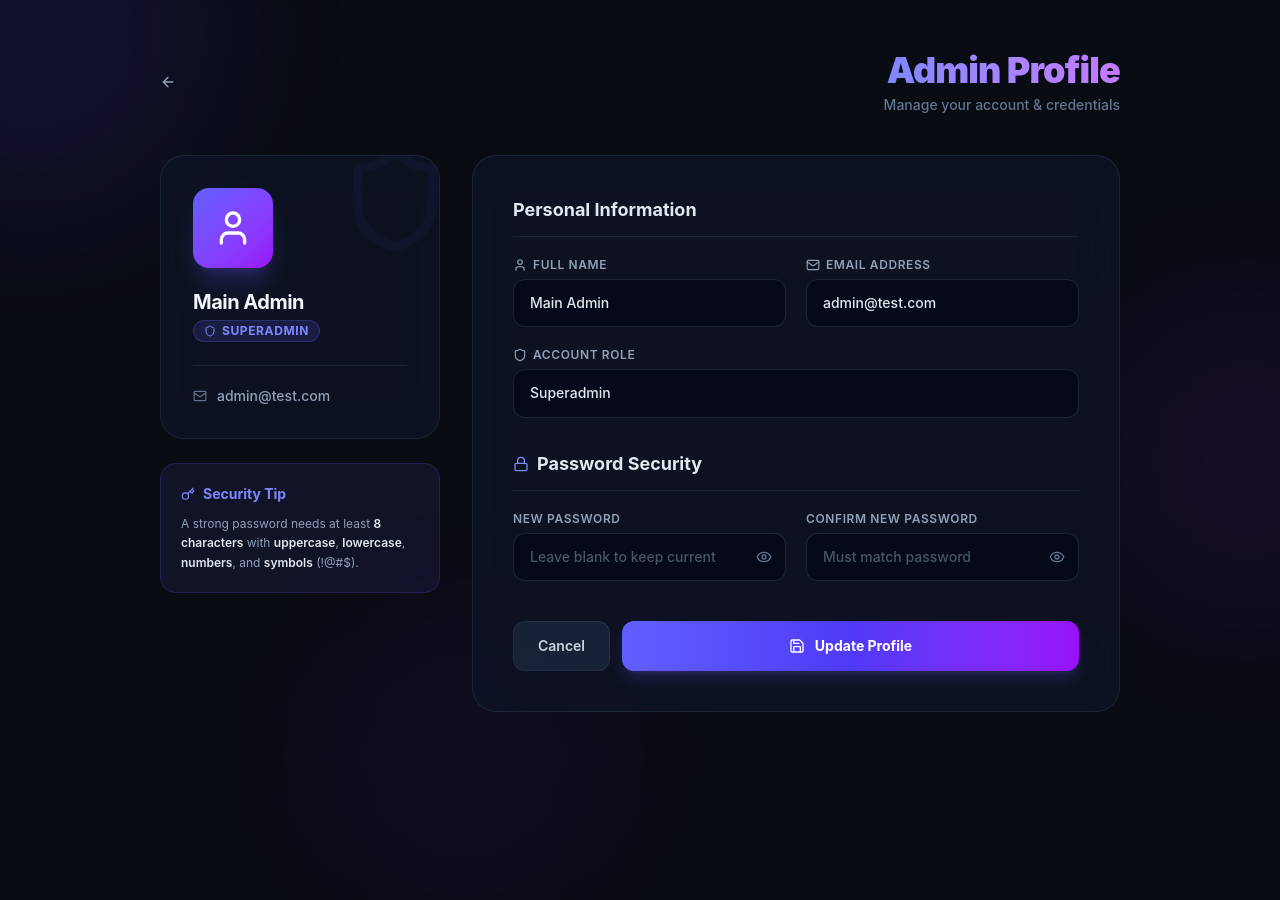
Test case: AdminProfile Page › handles profile update without password
The width and height of the screenshot is (1280, 900).
Replace the text in the field labelled "Full Name" with "Updated Admin": (650, 303) [513,279,786,327]
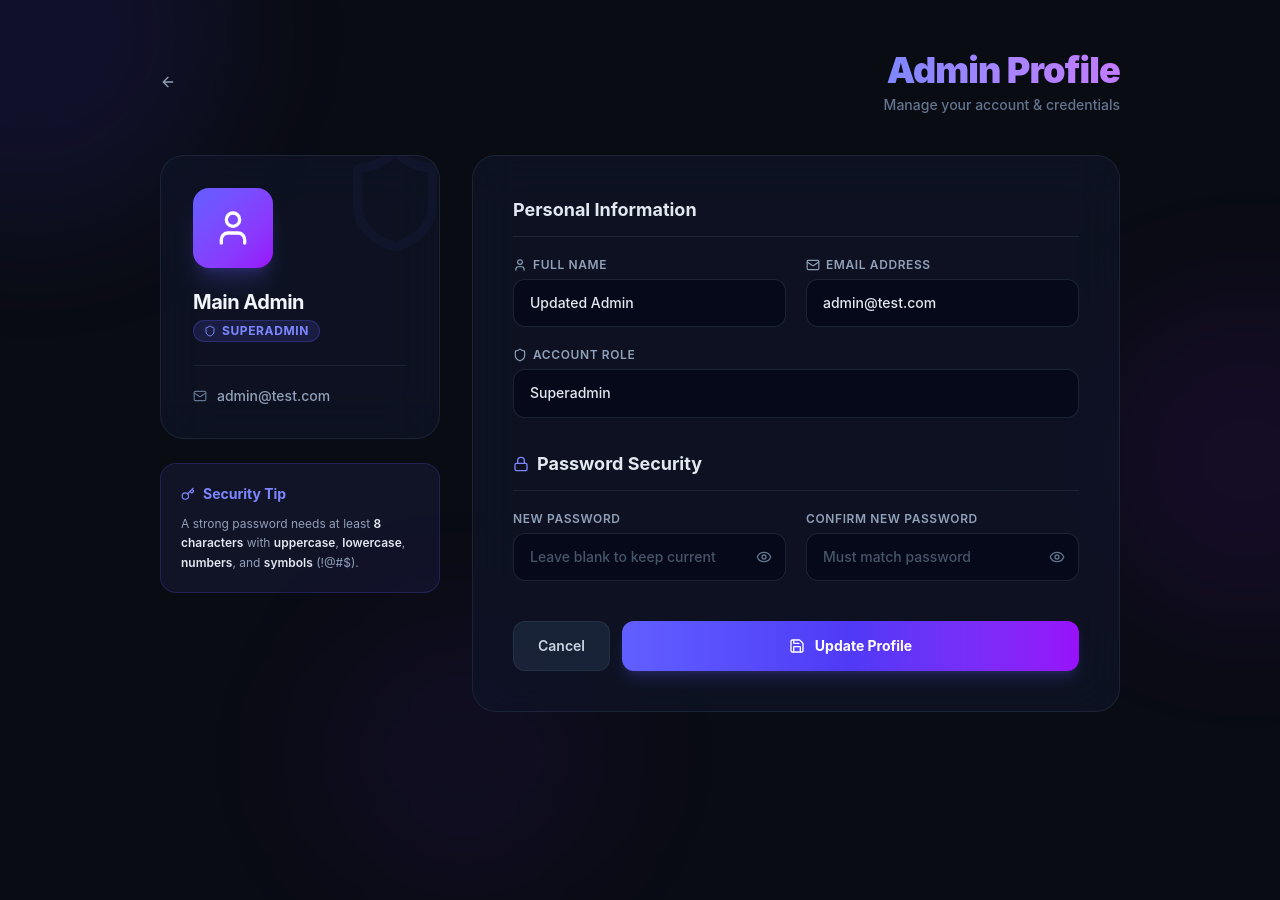
Click the button "Update Profile": (850, 646) [622,621,1079,671]
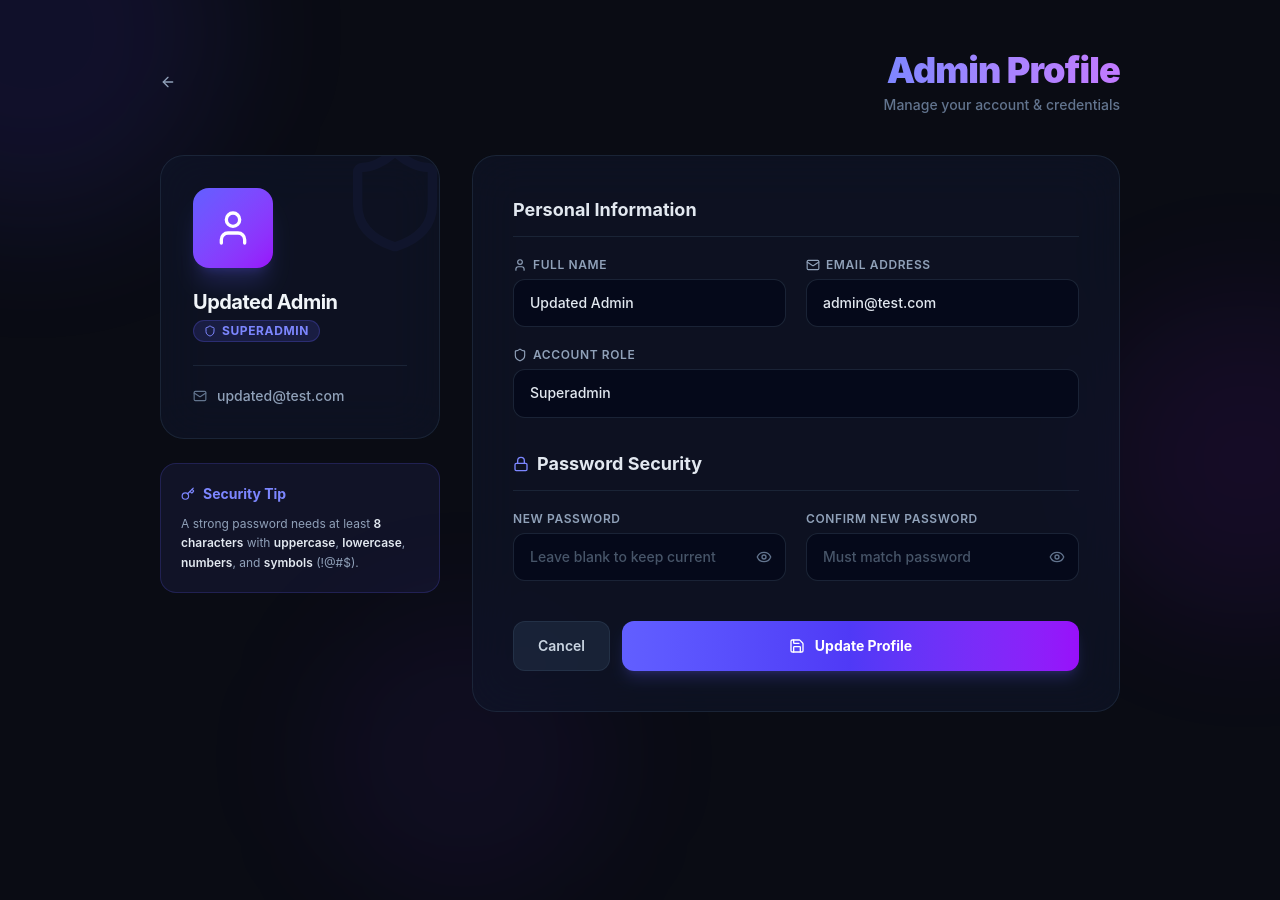
Expected: the heading "Updated Admin" is shown, [193,290,338,314]
